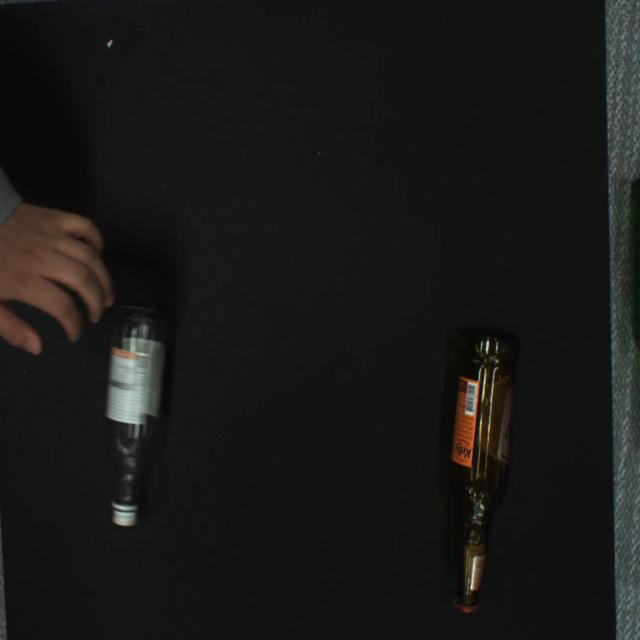beer-bottle: (447, 330, 519, 613)
soju-bottle: (101, 306, 168, 527)
